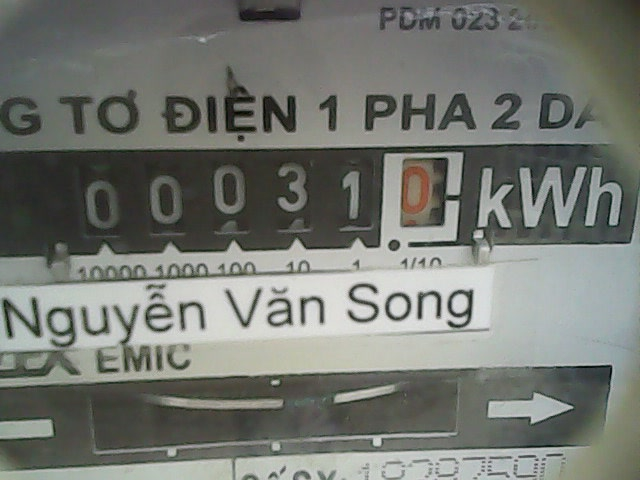phy_plate: (73, 140, 474, 253)
